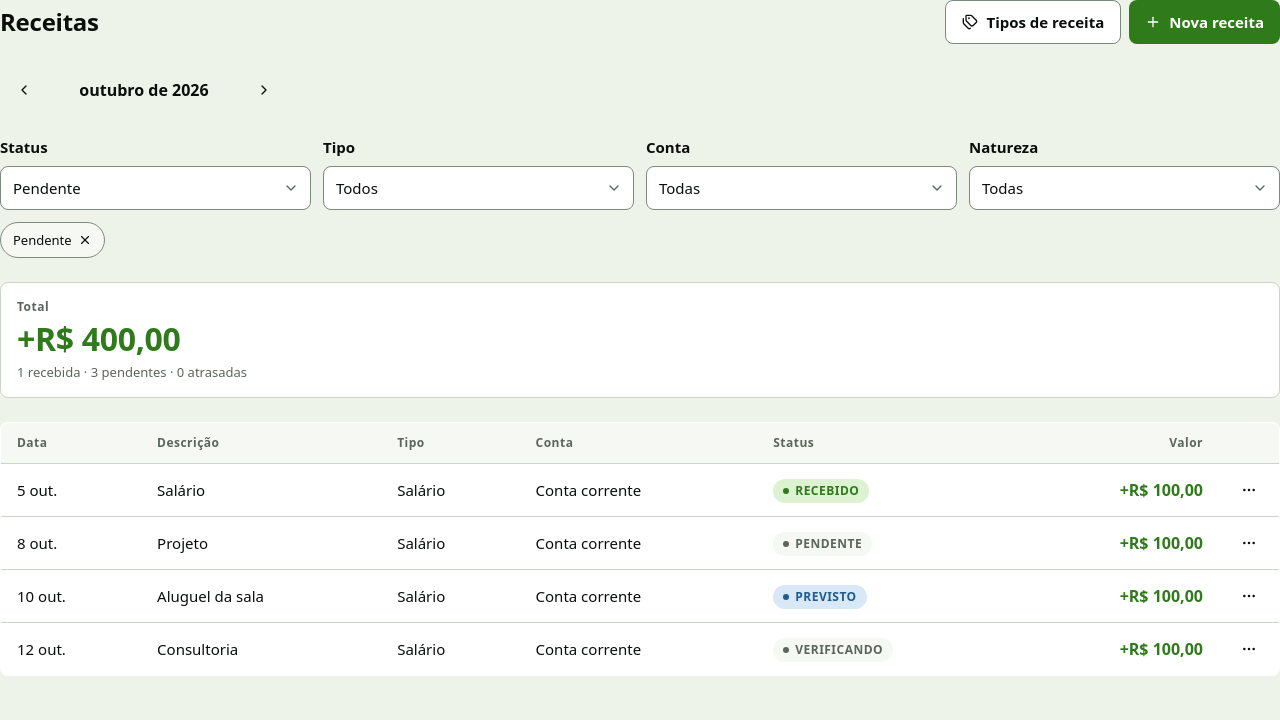
Test: earning row actions (spec 0014) › receives from the list, keeping the month and the filters
Check: the table named "Receitas" is shown, box [0,422,1279,676]
What coordinates should you click on to do the following:
click the button named "Ações de Projeto"
I would click on:
 (1249, 543)
Its box is [1227,521,1271,565].
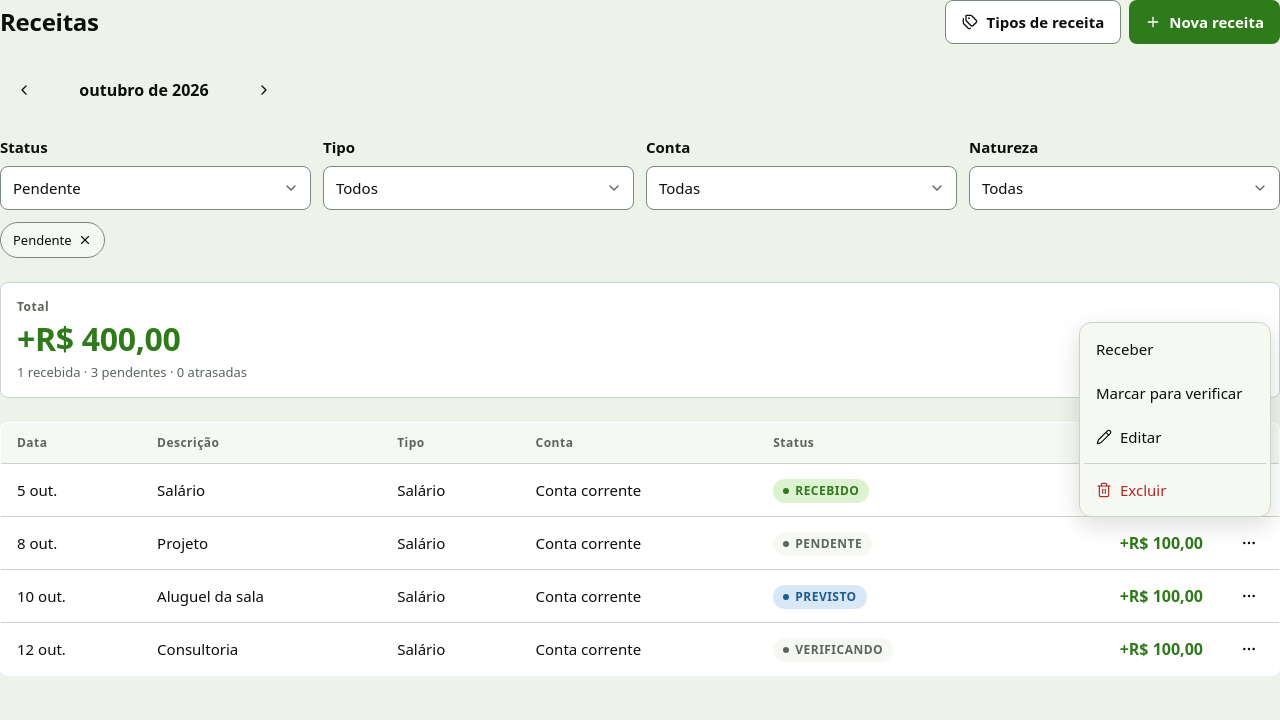
What coordinates should you click on to do the following:
click the menu item "Receber"
I would click on:
 (1125, 349)
Its box is [1096,339,1153,359].
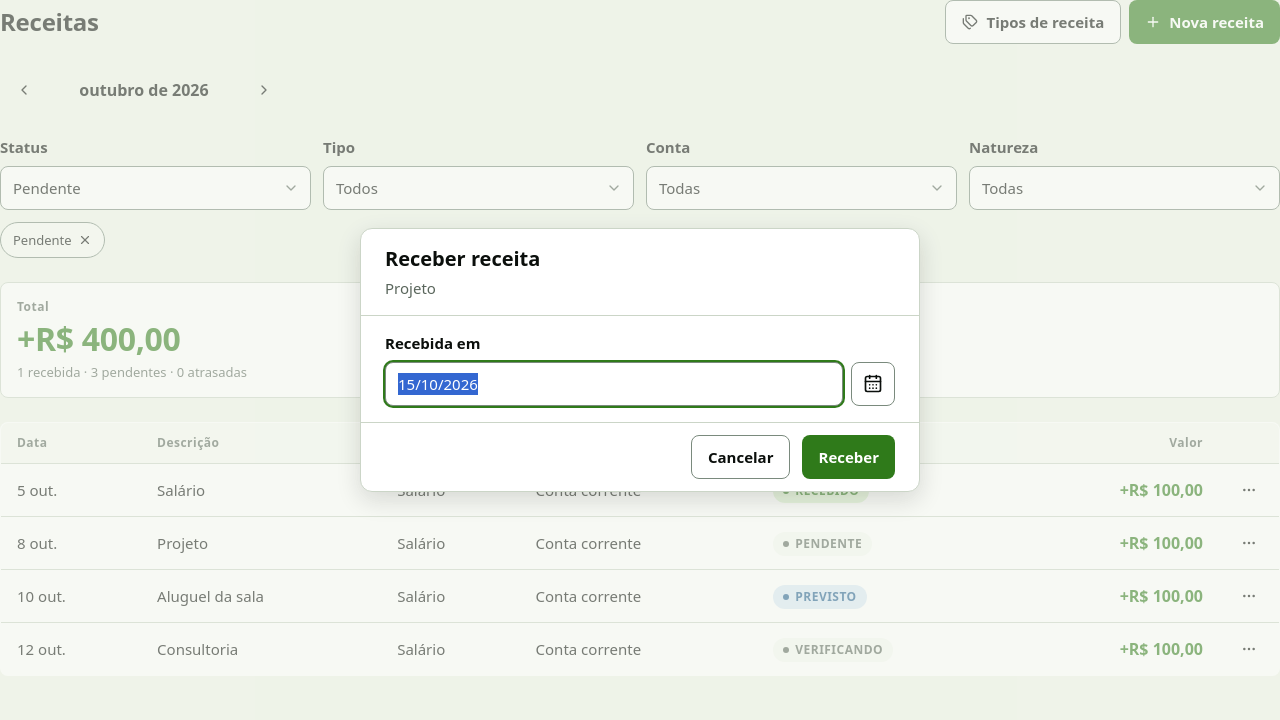
What coordinates should you click on to do the following:
click the button "Receber"
I would click on:
 (849, 457)
Its box is [802,435,895,479].
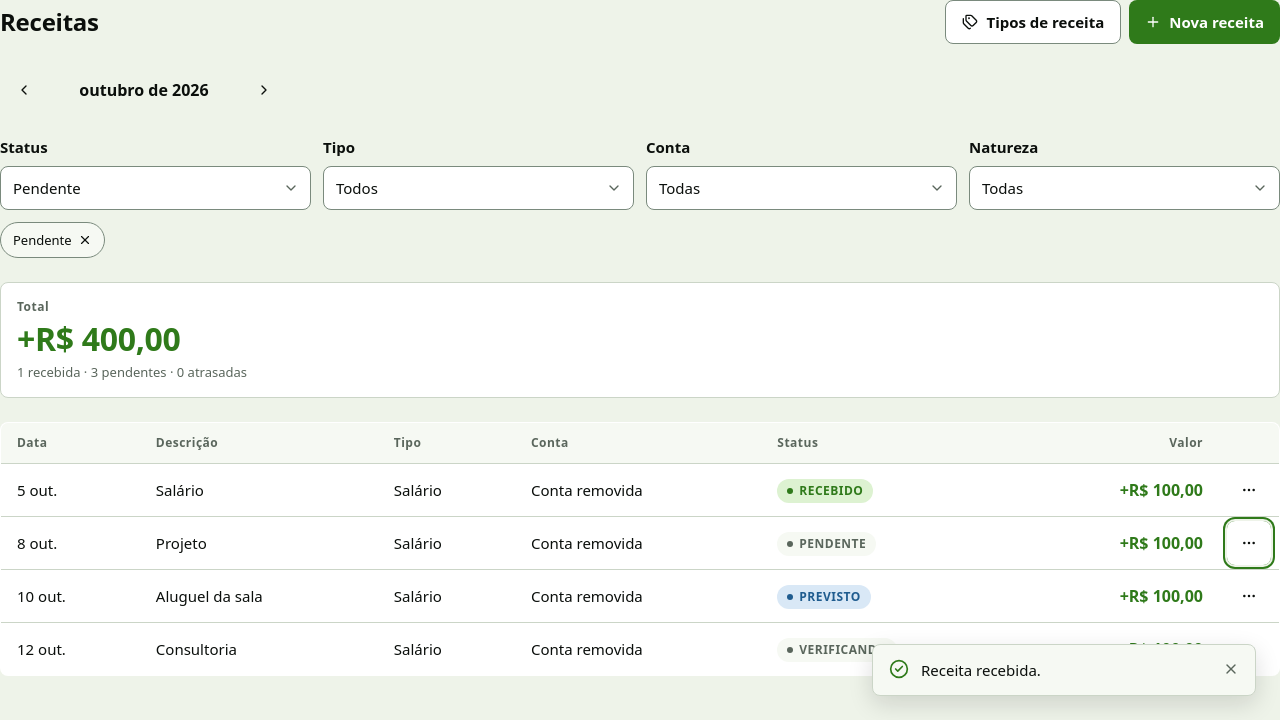
Check: the dialog is gone
Check: the text "Receita recebida." is shown, box [921,660,1041,680]
